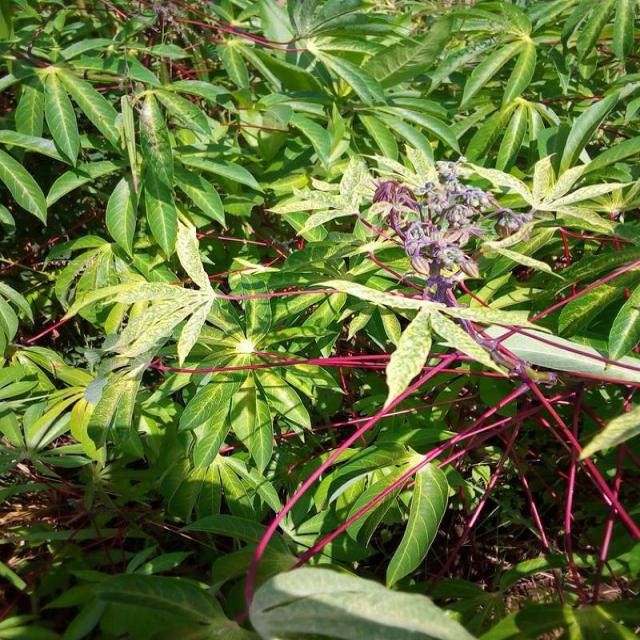cassava leaf: (2, 1, 640, 635), (248, 564, 478, 638)
